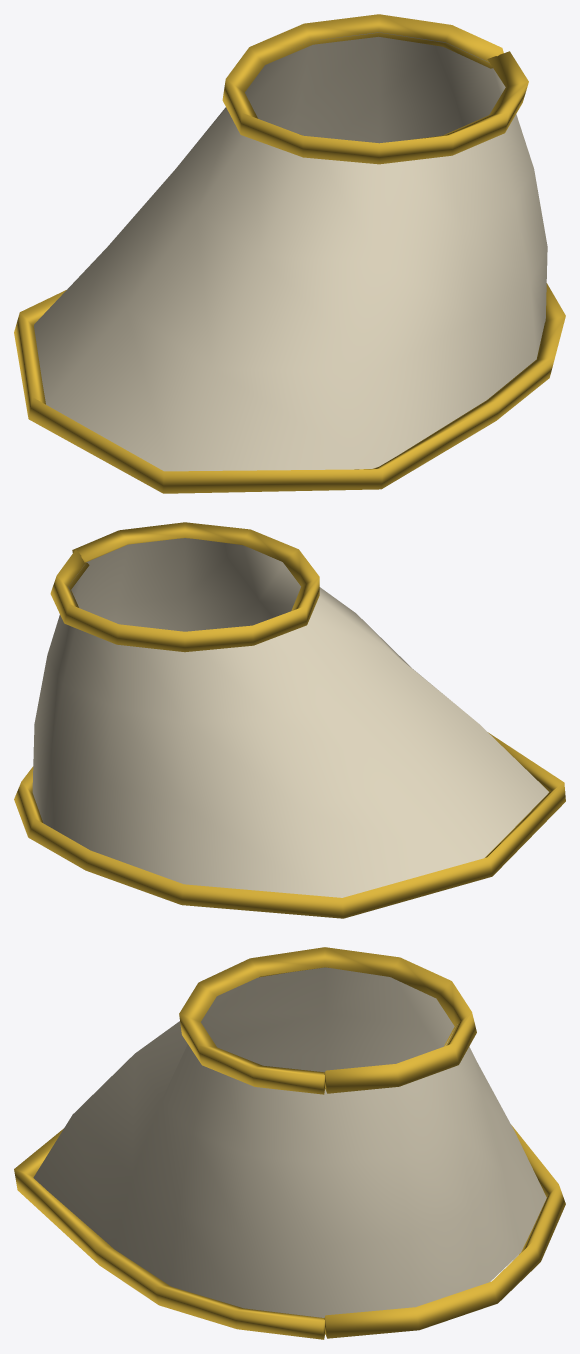
The model's file is radiant_armor_pauldron.R.glb.
The picture shows the model from 3 angles, top to bottom: view 1: azimuth 30°, elevation 25°; view 2: azimuth 150°, elevation 25°; view 3: azimuth 270°, elevation 25°; orthographic projection. The views are drawn at different scales.
Visible parts, largest first — view 1: radiant_armor_pauldron.R; view 2: radiant_armor_pauldron.R; view 3: radiant_armor_pauldron.R.
Boxes of the visible parts, bbox=[...] form: radiant_armor_pauldron.R: bbox=[14, 14, 565, 493]; radiant_armor_pauldron.R: bbox=[14, 522, 565, 918]; radiant_armor_pauldron.R: bbox=[14, 947, 565, 1339].
Bounding box in the file's own units: 0.342 × 0.1646 × 0.3253.
